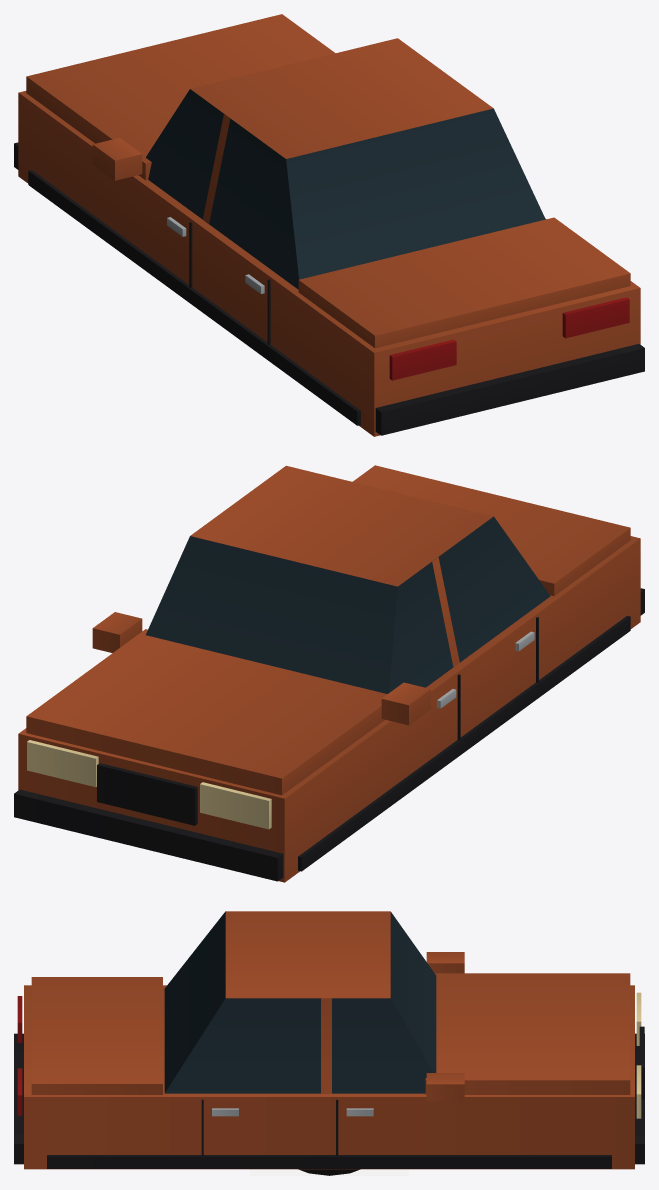
File: courier.glb
The picture shows the model from 3 angles, top to bottom: view 1: azimuth 30°, elevation 25°; view 2: azimuth 150°, elevation 25°; view 3: azimuth 270°, elevation 25°; orthographic projection. The views are drawn at different scales.
Parts seen in each view (by area): view 1: Body; view 2: Body; view 3: Body, HeadlightLens.
Part boxes in pixels (box(x1,y1,x2,y2)): Body: box(14, 14, 644, 436); Body: box(14, 465, 644, 882); Body: box(14, 911, 644, 1169); HeadlightLens: box(250, 1169, 408, 1175).
Size of the model in its own units: 1.97 by 1.3 by 3.96.
Materials: 3 (2 with a texture image).
